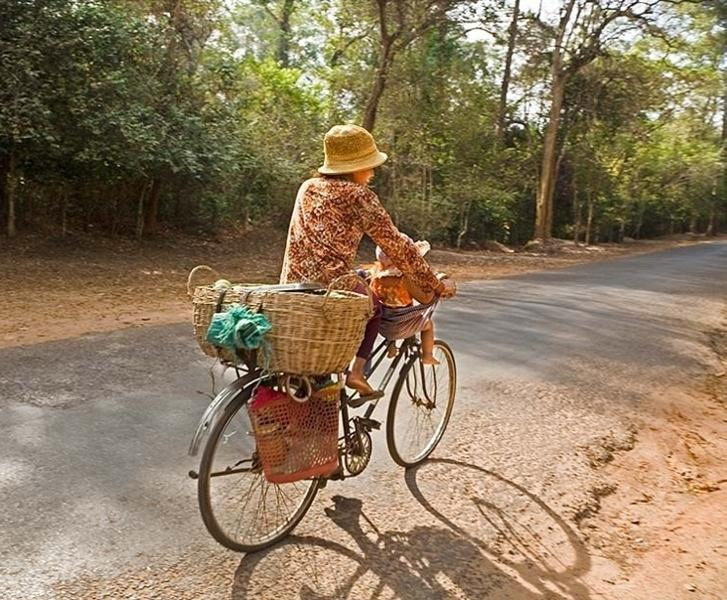person: (279, 122, 460, 399)
